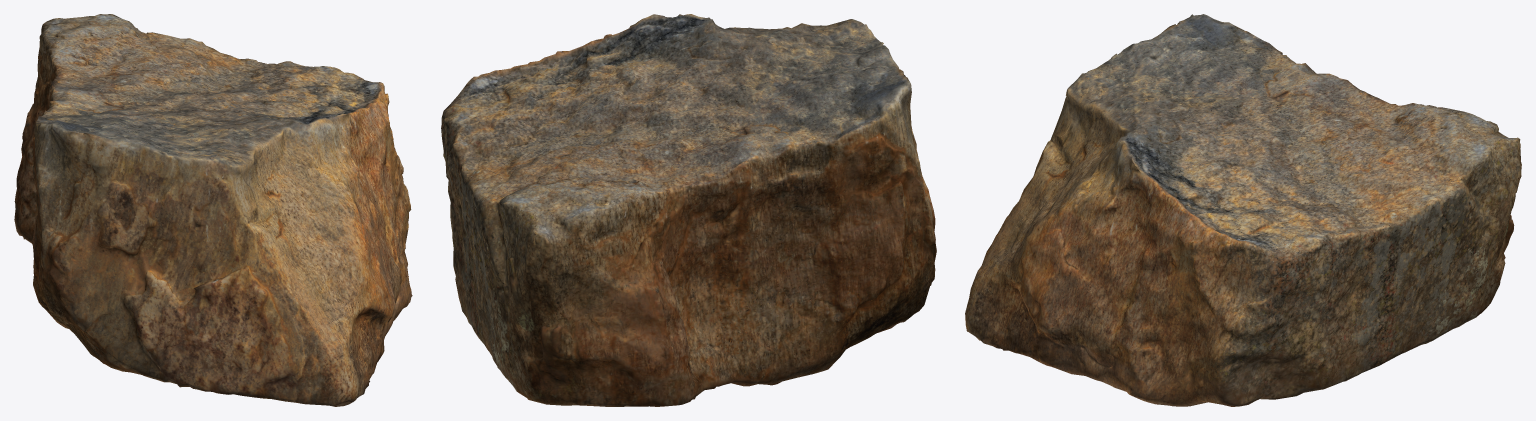
File: namaqualand-boulder-03-2k.glb
The picture shows the model from 3 angles, left to right: view 1: azimuth 30°, elevation 25°; view 2: azimuth 150°, elevation 25°; view 3: azimuth 270°, elevation 25°; orthographic projection. The views are drawn at different scales.
Parts seen in each view (by area): view 1: boulder_03_LOD0; view 2: boulder_03_LOD0; view 3: boulder_03_LOD0.
Boxes of the visible parts, bbox=[...] form: boulder_03_LOD0: bbox=[14, 14, 412, 406]; boulder_03_LOD0: bbox=[441, 14, 936, 406]; boulder_03_LOD0: bbox=[965, 14, 1521, 406].
Bounding box in the file's own units: 2.41 × 1.47 × 3.06.
1 material, 1 textured.
